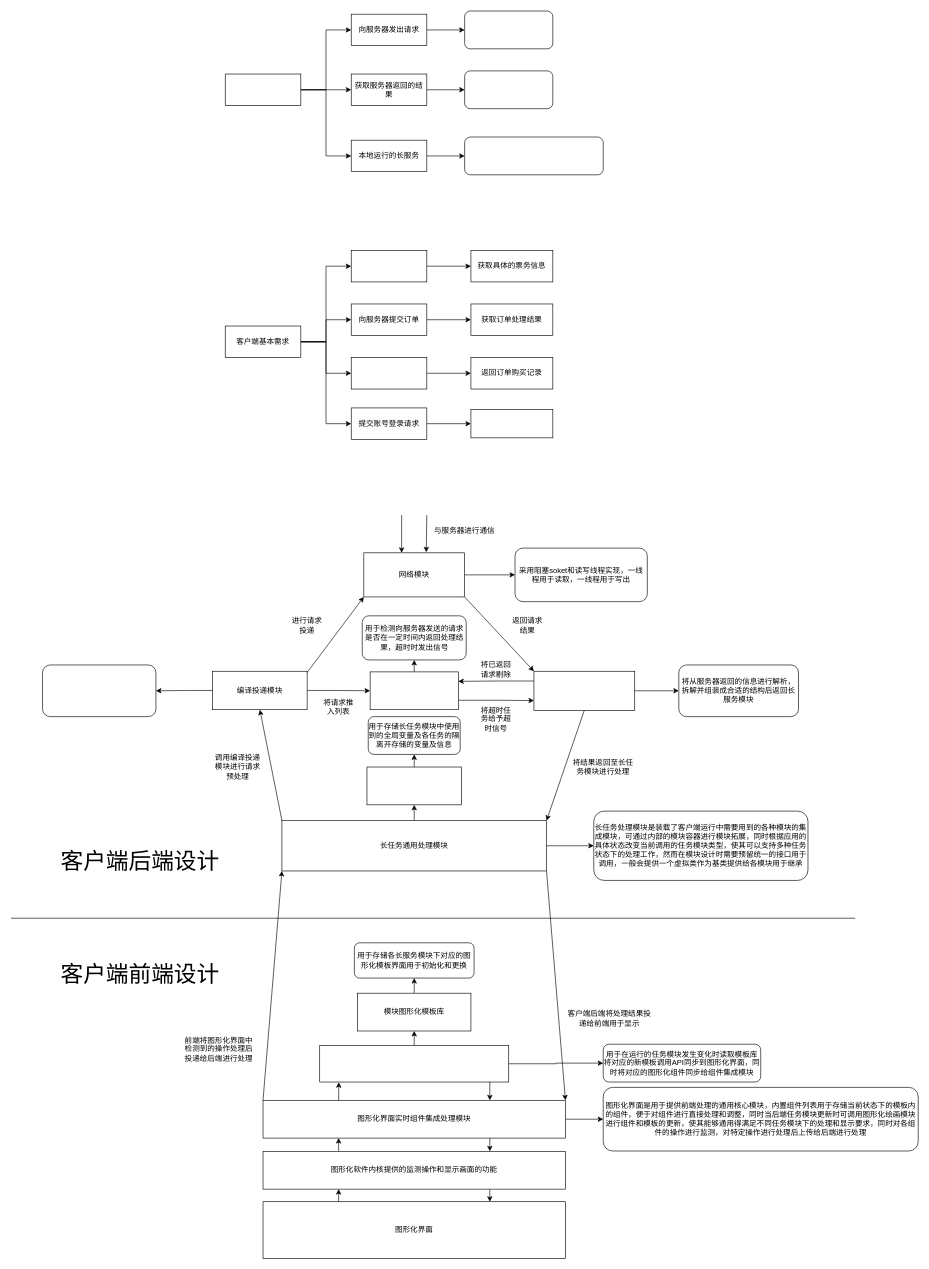
Image size: 929x1269. Some labels were removed from this diagram. The centre of each missing label's shape, as x and y in pixels:
"内置共享信息模块" goes at point 413,785.
"图形化界面绘画模块" goes at point 414,1063.
"在本地运行的多模块的长任务，用于处理本地产生的事务，一般包容多个业务模块用于切换状态" goes at point 533,155.
"将长服务投递的请求进行封装，编译成能符合网络模块要求的字符串" goes at point 99,690.
"待返回业务请求列表" goes at point 413,690.
"服务器处理请求后将处理的结果返回给客户端" goes at point 508,89.
"查看个人订单记录" goes at point 389,373.
"根据服务的需要向服务器发出服务请求" goes at point 508,29.
"浏览商品和票务信息" goes at point 389,266.
"票务系统客户端设计" goes at point 263,89.
"结果解析模块" goes at point 584,690.
"返回登录验证结果" goes at point 511,423.
